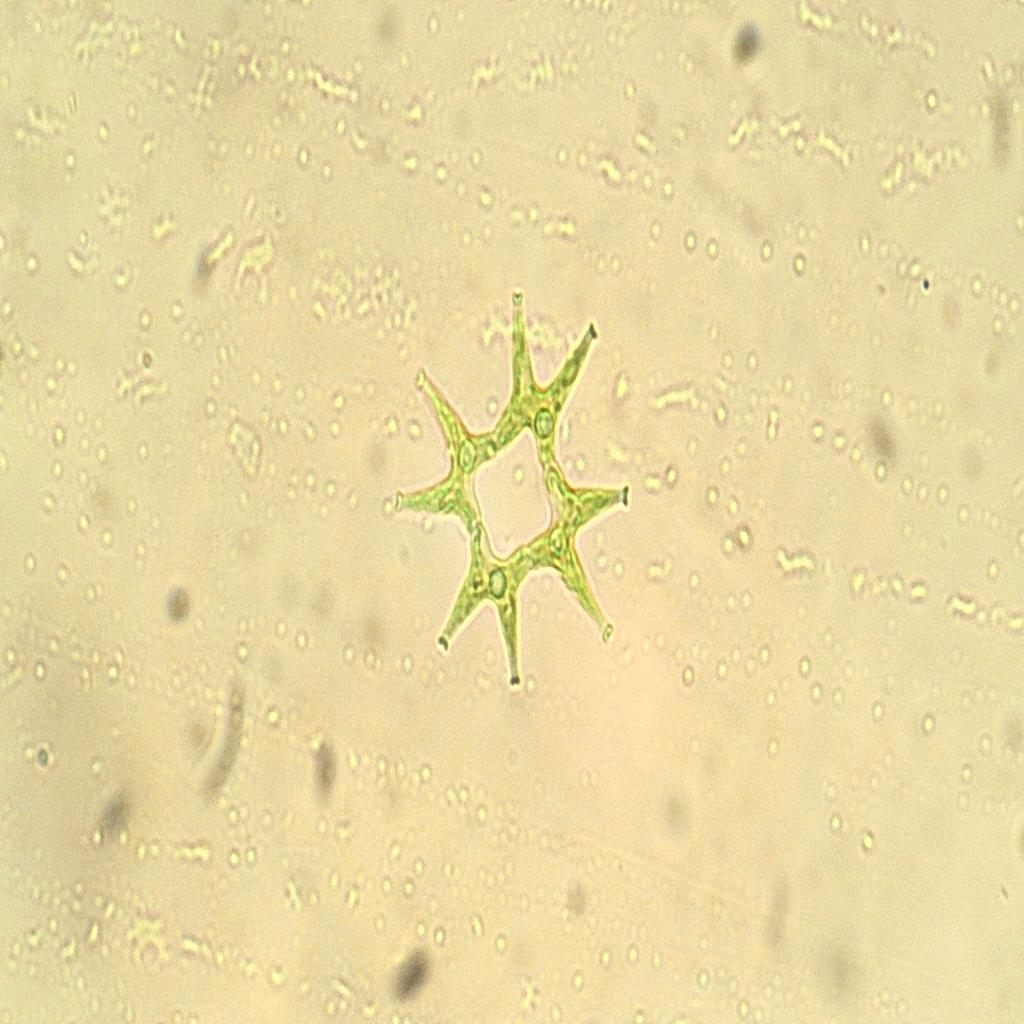Pediastrum_75O: (378, 276, 643, 705)
